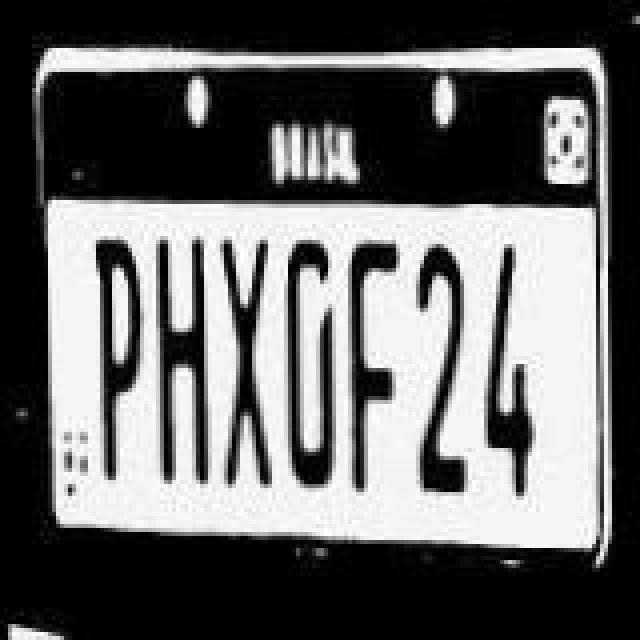2: (412, 234, 476, 498)
4: (480, 238, 536, 494)
D: (286, 242, 338, 490)
F: (344, 230, 400, 494)
H: (150, 222, 210, 518)
P: (72, 240, 144, 496)
X: (214, 234, 274, 490)
